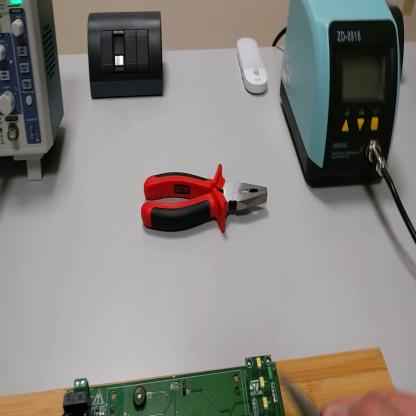hand: (322, 387, 416, 415)
low voltage board: (62, 354, 284, 416)
oscilloscope: (2, 3, 65, 182)
oscilloscope probe tip: (284, 369, 322, 415)
pliers: (142, 167, 269, 236)
socket: (393, 8, 407, 68)
welder station: (280, 3, 403, 194)
working area: (2, 343, 399, 414)
